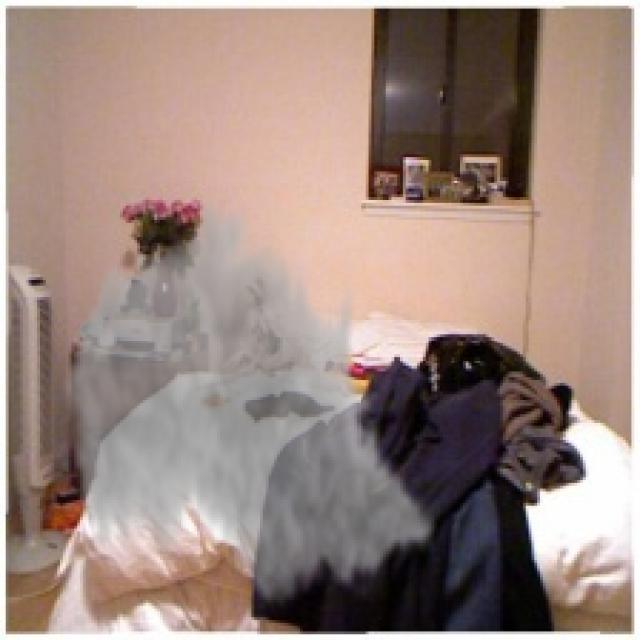Smoke: (60, 192, 440, 617)
